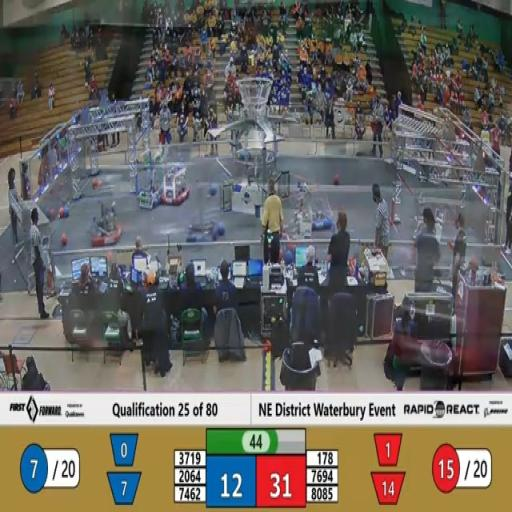robot: (182, 171, 227, 252), (297, 172, 336, 236), (86, 187, 125, 248), (272, 224, 310, 286), (158, 152, 193, 209), (133, 158, 164, 216)
